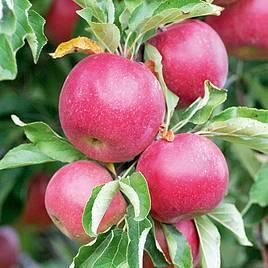apple: (56, 54, 166, 162), (136, 132, 229, 224), (151, 24, 229, 113), (43, 160, 125, 244), (43, 1, 81, 46)
